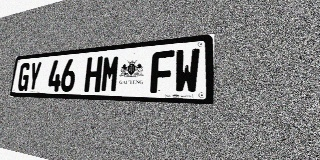4: (47, 60, 63, 92)
6: (60, 58, 77, 92)
F: (150, 50, 174, 93)
G: (17, 62, 31, 91)
H: (84, 56, 103, 92)
M: (100, 55, 120, 92)
W: (173, 48, 200, 94)
Y: (27, 61, 42, 91)
